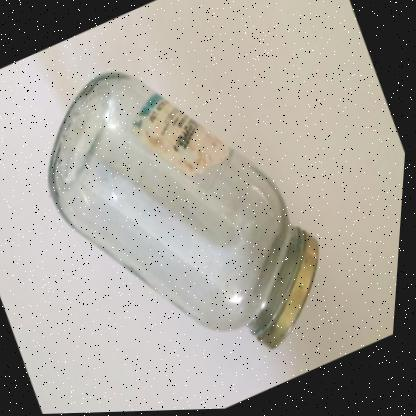Glass: (50, 73, 321, 350)
